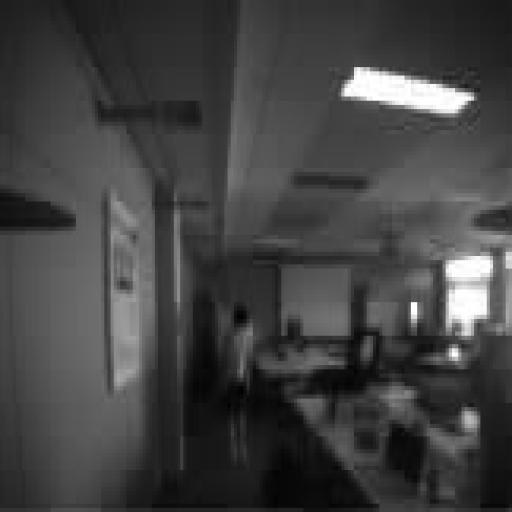human: (225, 303, 255, 461)
